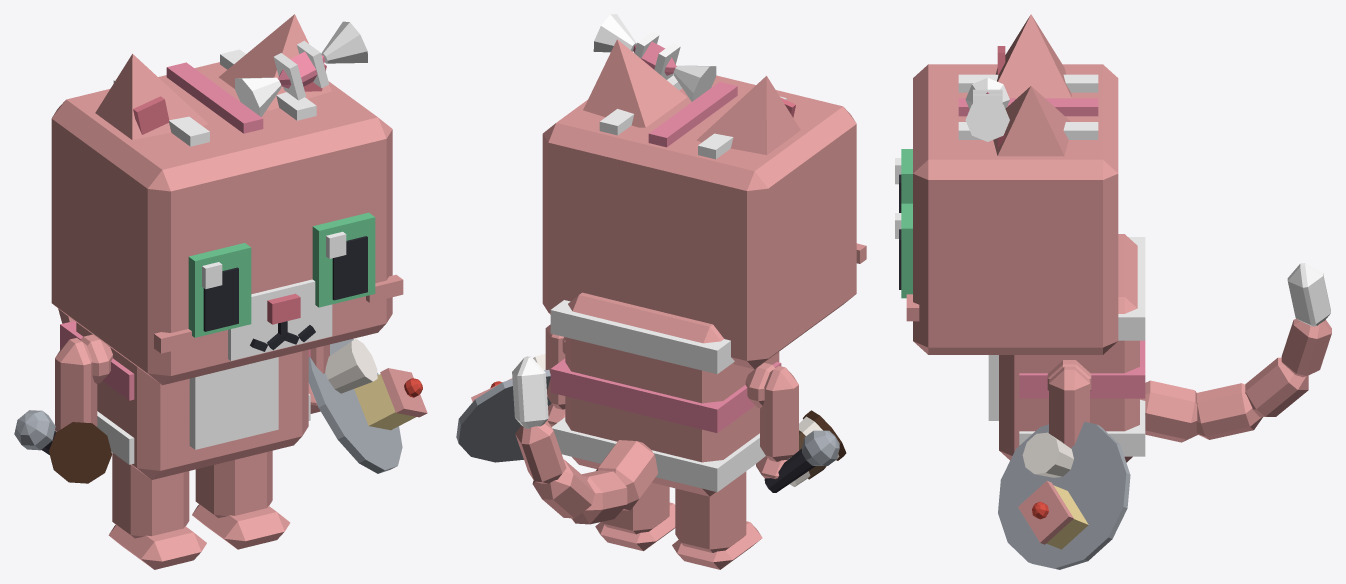
Rendered from CatCafe_Cat_Taffy_Work.glb.
3 renders of one model, left to right at view 1: azimuth 30°, elevation 25°; view 2: azimuth 150°, elevation 25°; view 3: azimuth 270°, elevation 25°, orthographic. The views are drawn at different scales.
Visible parts, largest first — view 1: CatCafe_Cat_Taffy_Work_Head, CatCafe_Cat_Taffy_Work_Body, CatCafe_Cat_Taffy_Work_Held_Waiter, CatCafe_Cat_Taffy_Work_LegB2, CatCafe_Cat_Taffy_Work_LegB1, CatCafe_Cat_Taffy_Work_Eye2, CatCafe_Cat_Taffy_Work_Eye1, CatCafe_Cat_Taffy_Work_EarR, CatCafe_Cat_Taffy_Work_Prop, CatCafe_Cat_Taffy_Work_LegF2, CatCafe_Cat_Taffy_Work_Held_Barista, CatCafe_Cat_Taffy_Work_EarL (+2 smaller); view 2: CatCafe_Cat_Taffy_Work_Head, CatCafe_Cat_Taffy_Work_Body, CatCafe_Cat_Taffy_Work_Tail, CatCafe_Cat_Taffy_Work_LegB2, CatCafe_Cat_Taffy_Work_EarL, CatCafe_Cat_Taffy_Work_Held_Waiter, CatCafe_Cat_Taffy_Work_EarR, CatCafe_Cat_Taffy_Work_LegF2, CatCafe_Cat_Taffy_Work_Prop, CatCafe_Cat_Taffy_Work_LegB1, CatCafe_Cat_Taffy_Work_Held_Entertainer, CatCafe_Cat_Taffy_Work_LegF1 (+1 smaller); view 3: CatCafe_Cat_Taffy_Work_Head, CatCafe_Cat_Taffy_Work_Held_Waiter, CatCafe_Cat_Taffy_Work_Body, CatCafe_Cat_Taffy_Work_Tail, CatCafe_Cat_Taffy_Work_EarR, CatCafe_Cat_Taffy_Work_EarL, CatCafe_Cat_Taffy_Work_LegF1, CatCafe_Cat_Taffy_Work_Prop, CatCafe_Cat_Taffy_Work_Eye1, CatCafe_Cat_Taffy_Work_Eye2.
Part boxes in pixels (x1,y1,x2,y2): CatCafe_Cat_Taffy_Work_Head: (51,49,403,385); CatCafe_Cat_Taffy_Work_Body: (60,321,310,479); CatCafe_Cat_Taffy_Work_Held_Waiter: (308,338,427,473); CatCafe_Cat_Taffy_Work_LegB2: (108,452,206,569); CatCafe_Cat_Taffy_Work_LegB1: (192,450,290,549); CatCafe_Cat_Taffy_Work_Eye2: (188,243,251,337); CatCafe_Cat_Taffy_Work_Eye1: (312,212,375,307); CatCafe_Cat_Taffy_Work_EarR: (95,54,208,139); CatCafe_Cat_Taffy_Work_Prop: (235,21,367,116); CatCafe_Cat_Taffy_Work_LegF2: (55,338,97,431); CatCafe_Cat_Taffy_Work_Held_Barista: (49,422,111,483); CatCafe_Cat_Taffy_Work_EarL: (219,14,331,110); CatCafe_Cat_Taffy_Work_Head: (542,65,866,369); CatCafe_Cat_Taffy_Work_Body: (550,292,781,496); CatCafe_Cat_Taffy_Work_Tail: (512,356,657,524); CatCafe_Cat_Taffy_Work_LegB2: (672,471,762,569); CatCafe_Cat_Taffy_Work_EarL: (583,39,687,127); CatCafe_Cat_Taffy_Work_Held_Waiter: (456,353,551,462); CatCafe_Cat_Taffy_Work_EarR: (696,76,800,154); CatCafe_Cat_Taffy_Work_LegF2: (756,366,798,479); CatCafe_Cat_Taffy_Work_Prop: (593,14,716,101); CatCafe_Cat_Taffy_Work_LegB1: (595,482,675,551); CatCafe_Cat_Taffy_Work_Held_Entertainer: (764,430,839,492); CatCafe_Cat_Taffy_Work_LegF1: (545,324,565,426); CatCafe_Cat_Taffy_Work_Head: (906,64,1118,354); CatCafe_Cat_Taffy_Work_Held_Waiter: (998,421,1130,569); CatCafe_Cat_Taffy_Work_Body: (988,234,1145,462); CatCafe_Cat_Taffy_Work_Tail: (1140,263,1331,442); CatCafe_Cat_Taffy_Work_EarR: (995,14,1071,98); CatCafe_Cat_Taffy_Work_EarL: (993,86,1070,156); CatCafe_Cat_Taffy_Work_LegF1: (1049,366,1089,448); CatCafe_Cat_Taffy_Work_Prop: (965,78,1009,141); CatCafe_Cat_Taffy_Work_Eye1: (895,203,912,298); CatCafe_Cat_Taffy_Work_Eye2: (895,149,912,212).
Bounding box in the file's own units: 1.53 × 1.93 × 1.62.
1 material, 1 textured.
